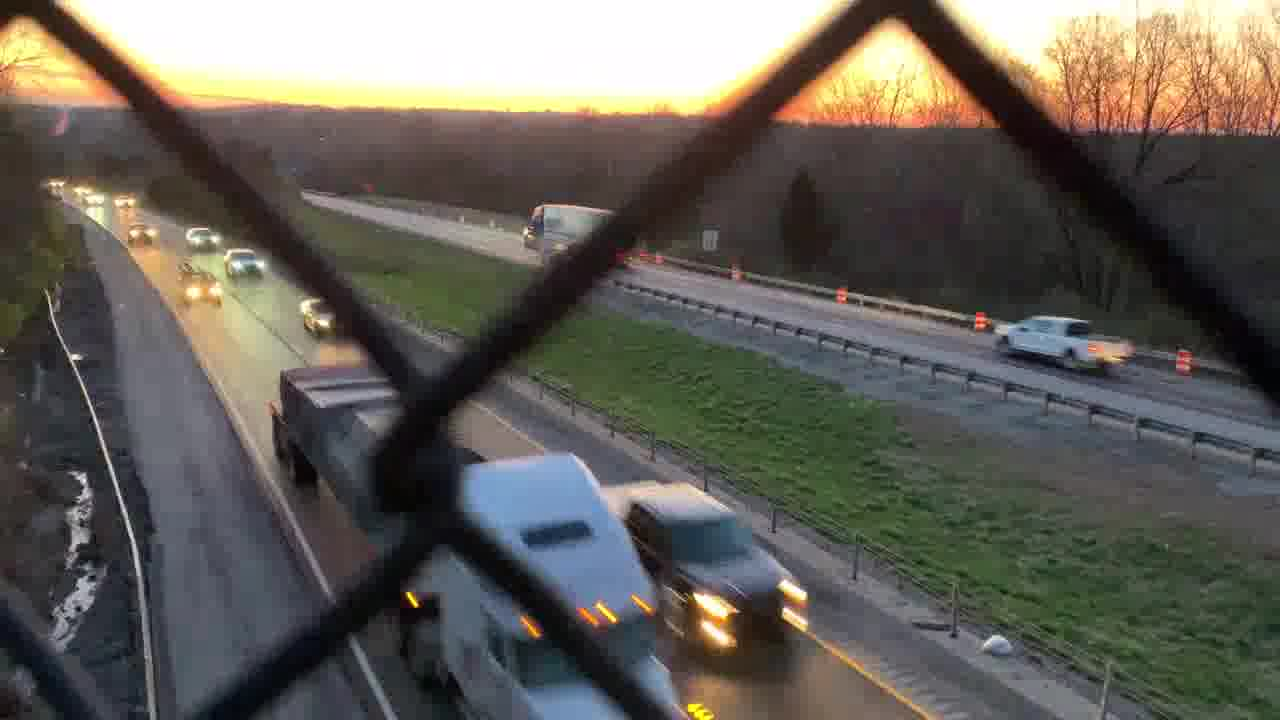heavyTruck: (269, 355, 687, 720), (522, 205, 634, 257)
lightTruck: (607, 478, 811, 653), (992, 310, 1134, 377)
